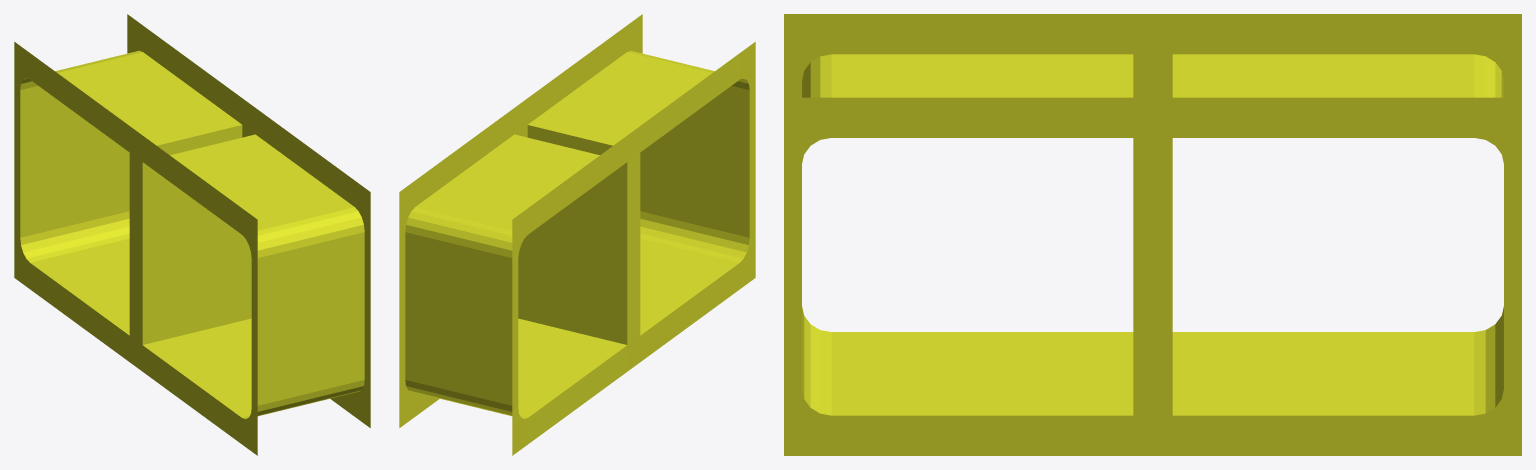
The model's file is WindowFrame_B.fbx.
3 renders of one model, left to right at view 1: azimuth 30°, elevation 25°; view 2: azimuth 150°, elevation 25°; view 3: azimuth 270°, elevation 25°, orthographic. The views are drawn at different scales.
Visible parts, largest first — view 1: 4.WindowFrame_A; view 2: 4.WindowFrame_A; view 3: 4.WindowFrame_A.
Boxes of the visible parts, x1=… form: 4.WindowFrame_A: x1=14, y1=14, x2=370, y2=455; 4.WindowFrame_A: x1=399, y1=14, x2=755, y2=455; 4.WindowFrame_A: x1=784, y1=14, x2=1521, y2=455.
Size of the model in its own units: 1 by 2 by 3.73.
